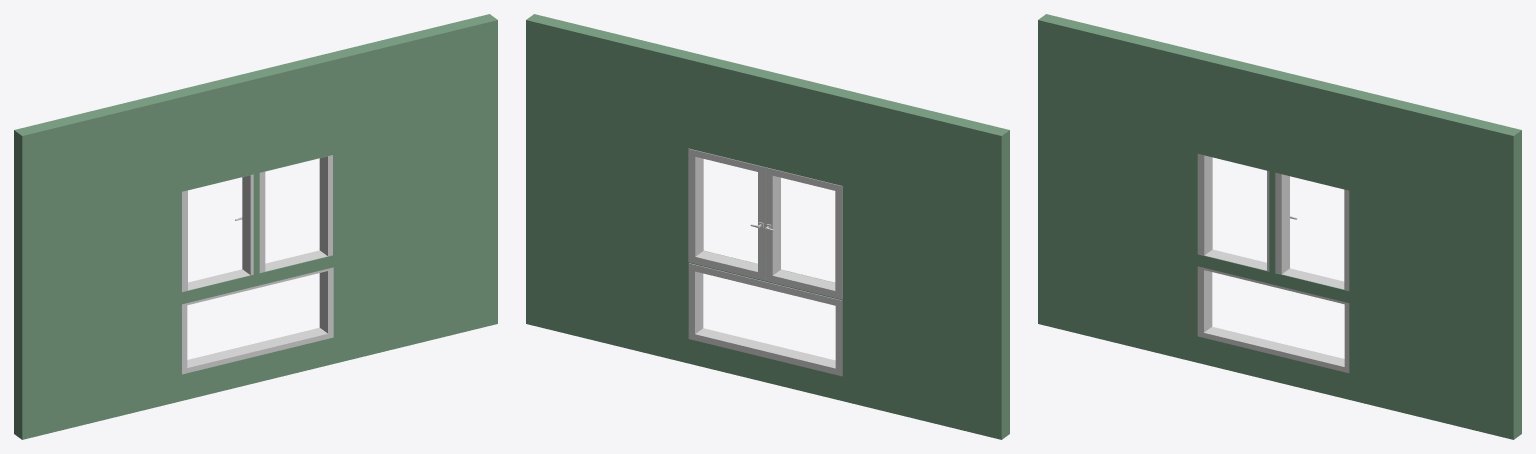
File: pared con ventana.fbx
3 renders of one model, left to right at view 1: azimuth 30°, elevation 25°; view 2: azimuth 150°, elevation 25°; view 3: azimuth 330°, elevation 25°, orthographic.
Visible parts, largest first — view 1: pared fondo, Cube.002, Cube, Cube.001; view 2: pared fondo, Cube.002, Cube, Cube.001; view 3: pared fondo, Cube.002, Cube, Cube.001.
Boxes of the visible parts, left/top/right/bottom form: pared fondo: left=14, top=14, right=497, bottom=439; Cube.002: left=182, top=267, right=333, bottom=374; Cube: left=259, top=155, right=333, bottom=272; Cube.001: left=182, top=174, right=253, bottom=291; pared fondo: left=526, top=14, right=1009, bottom=439; Cube.002: left=688, top=263, right=842, bottom=376; Cube: left=688, top=148, right=765, bottom=280; Cube.001: left=765, top=167, right=842, bottom=299; pared fondo: left=1038, top=14, right=1521, bottom=439; Cube.002: left=1197, top=266, right=1349, bottom=373; Cube: left=1275, top=172, right=1349, bottom=290; Cube.001: left=1198, top=154, right=1269, bottom=271.
Size of the model in its own units: 287 by 175 by 12.61.
